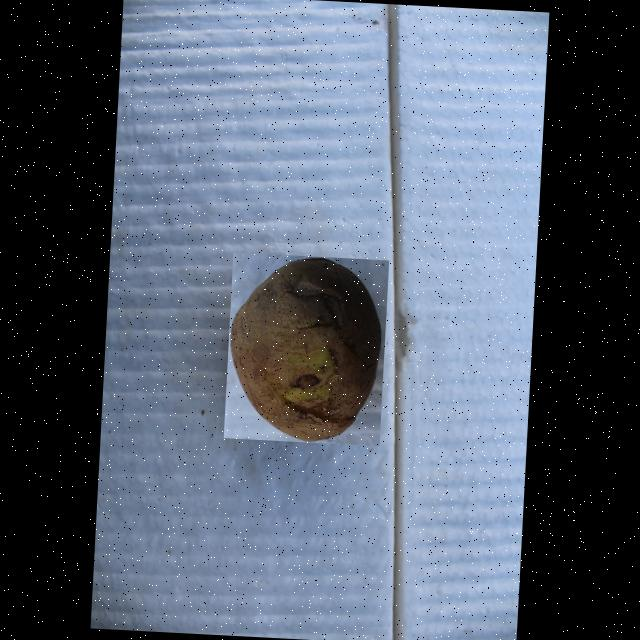Diseased-fungal potato: (223, 252, 390, 446)
